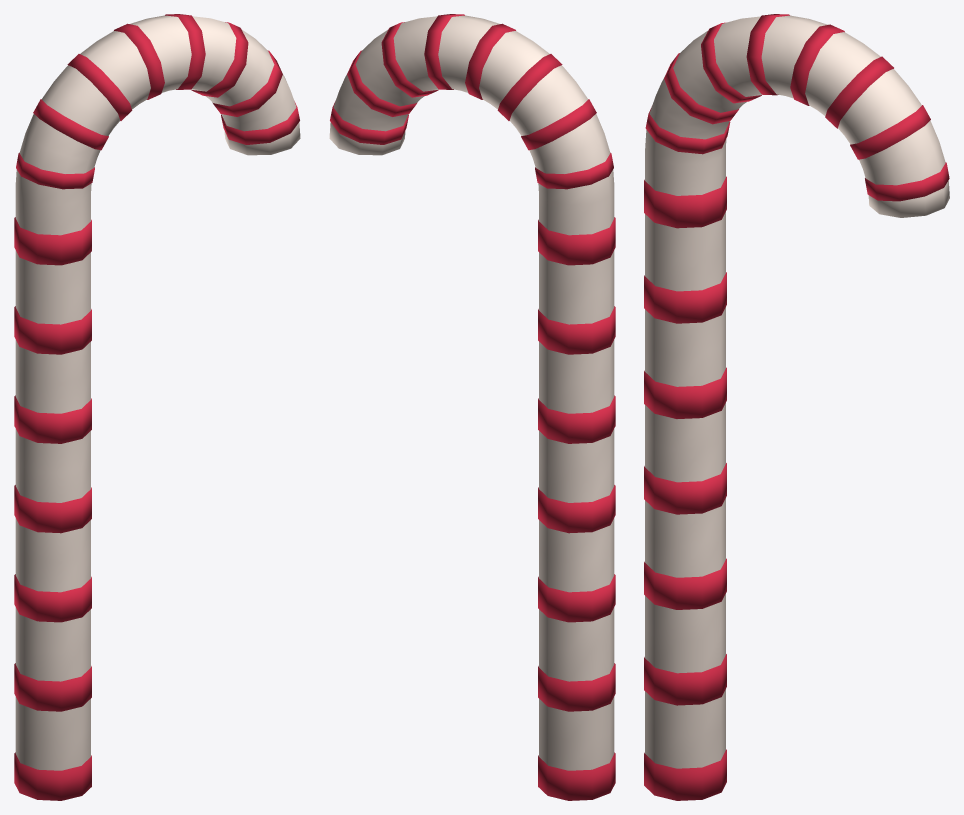
File: candy-cane.glb
3 views of the same model, side by side, from view 1: azimuth 30°, elevation 25°; view 2: azimuth 150°, elevation 25°; view 3: azimuth 330°, elevation 25° (orthographic). The views are drawn at different scales.
Parts seen in each view (by area): view 1: Peppermint, Strawberry band.006, Strawberry band.001, Strawberry band.002, Strawberry band.005, Strawberry band.003, Strawberry band.004, Strawberry band, Strawberry band.008, Strawberry band.009, Strawberry band.007, Strawberry band.010 (+4 smaller); view 2: Peppermint, Strawberry band.006, Strawberry band.001, Strawberry band.002, Strawberry band.005, Strawberry band.003, Strawberry band.004, Strawberry band, Strawberry band.008, Strawberry band.009, Strawberry band.007, Strawberry band.010 (+4 smaller); view 3: Peppermint, Strawberry band, Strawberry band.005, Strawberry band.003, Strawberry band.001, Strawberry band.002, Strawberry band.006, Strawberry band.004, Strawberry band.013, Strawberry band.012, Strawberry band.014, Strawberry band.011 (+4 smaller).
Part boxes in pixels (x1=…): Peppermint: x1=15, y1=15, x2=300, y2=770; Strawberry band.006: x1=14, y1=217, x2=91, y2=265; Strawberry band.001: x1=14, y1=663, x2=91, y2=711; Strawberry band.002: x1=14, y1=574, x2=91, y2=622; Strawberry band.005: x1=14, y1=306, x2=91, y2=354; Strawberry band.003: x1=14, y1=485, x2=91, y2=533; Strawberry band.004: x1=14, y1=395, x2=91, y2=443; Strawberry band: x1=14, y1=752, x2=91, y2=800; Strawberry band.008: x1=33, y1=99, x2=108, y2=150; Strawberry band.009: x1=67, y1=54, x2=132, y2=120; Strawberry band.007: x1=16, y1=152, x2=94, y2=189; Strawberry band.010: x1=114, y1=23, x2=164, y2=99; Peppermint: x1=329, y1=15, x2=614, y2=770; Strawberry band.006: x1=538, y1=217, x2=615, y2=265; Strawberry band.001: x1=538, y1=663, x2=615, y2=711; Strawberry band.002: x1=538, y1=574, x2=615, y2=622; Strawberry band.005: x1=538, y1=306, x2=615, y2=354; Strawberry band.003: x1=538, y1=485, x2=615, y2=533; Strawberry band.004: x1=538, y1=395, x2=615, y2=443; Strawberry band: x1=538, y1=752, x2=615, y2=800; Strawberry band.008: x1=521, y1=99, x2=596, y2=150; Strawberry band.009: x1=497, y1=54, x2=562, y2=120; Strawberry band.007: x1=535, y1=152, x2=613, y2=189; Strawberry band.010: x1=465, y1=23, x2=515, y2=99; Peppermint: x1=645, y1=15, x2=949, y2=768; Strawberry band: x1=644, y1=749, x2=726, y2=800; Strawberry band.005: x1=644, y1=272, x2=726, y2=323; Strawberry band.003: x1=644, y1=463, x2=726, y2=514; Strawberry band.001: x1=644, y1=654, x2=726, y2=705; Strawberry band.002: x1=644, y1=558, x2=726, y2=609; Strawberry band.006: x1=644, y1=176, x2=726, y2=228; Strawberry band.004: x1=644, y1=367, x2=726, y2=418; Strawberry band.013: x1=850, y1=105, x2=930, y2=159; Strawberry band.012: x1=825, y1=56, x2=893, y2=128; Strawberry band.014: x1=865, y1=162, x2=949, y2=201; Strawberry band.011: x1=790, y1=24, x2=844, y2=105.
Size of the model in its own units: 0.9228 by 2.36 by 0.2149.
